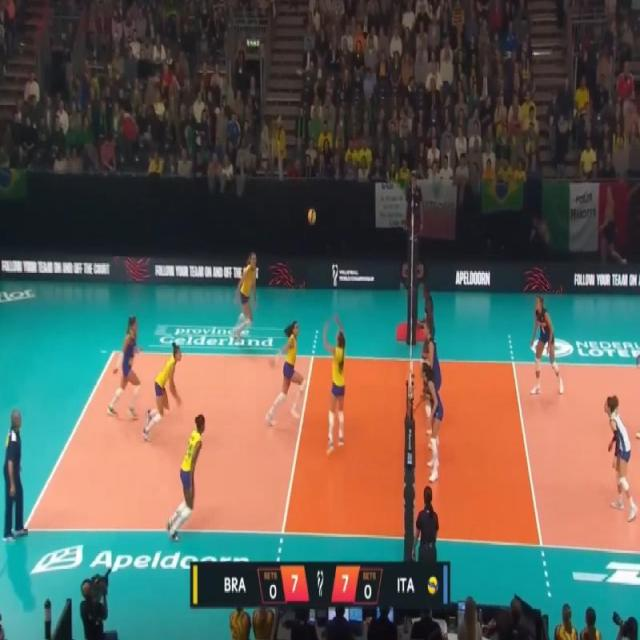volleyball: (306, 206, 318, 226)
